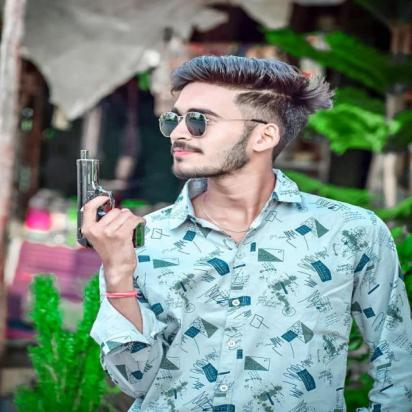Gun: (71, 144, 154, 254)
